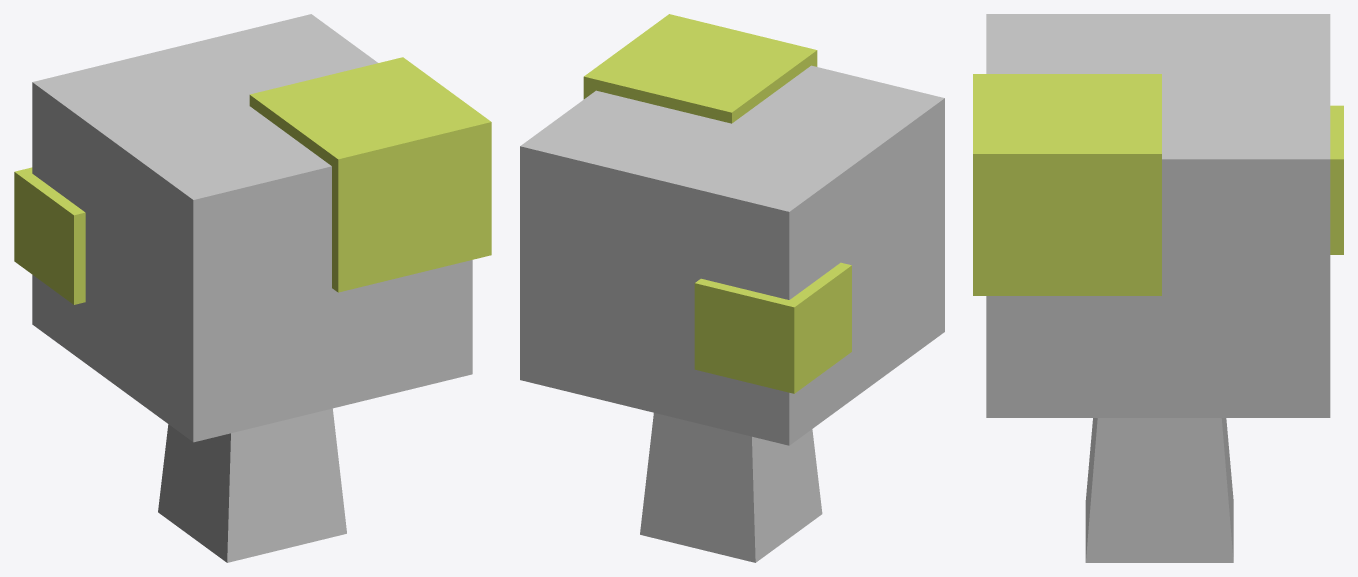
File: Copac-5.fbx
3 views of the same model, side by side, from view 1: azimuth 30°, elevation 25°; view 2: azimuth 150°, elevation 25°; view 3: azimuth 270°, elevation 25° (orthographic). The views are drawn at different scales.
Parts seen in each view (by area): view 1: Cube.002; view 2: Cube.002; view 3: Cube.002.
Part boxes in pixels (x1=…): Cube.002: x1=14, y1=14, x2=491, y2=562; Cube.002: x1=520, y1=14, x2=944, y2=562; Cube.002: x1=973, y1=14, x2=1343, y2=562.
Size of the model in its own units: 2.07 by 2.79 by 2.05.
